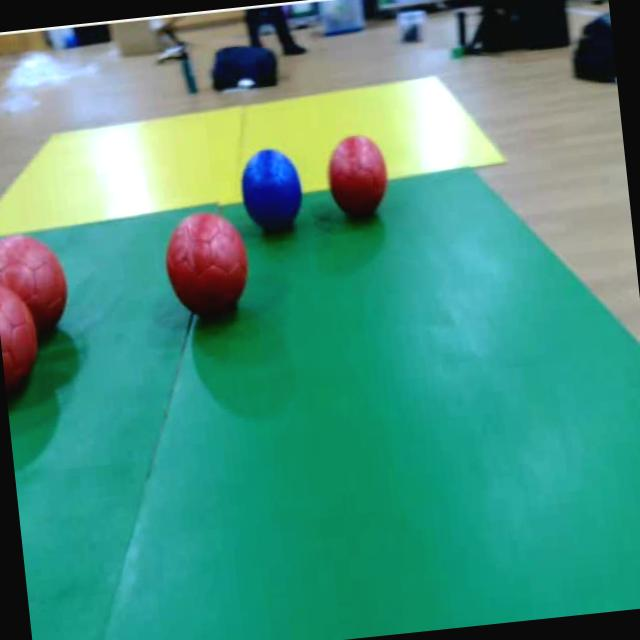blue_ball: (234, 138, 309, 235)
red_ball: (156, 204, 258, 328), (0, 223, 75, 349), (326, 130, 394, 224), (0, 276, 45, 407)
